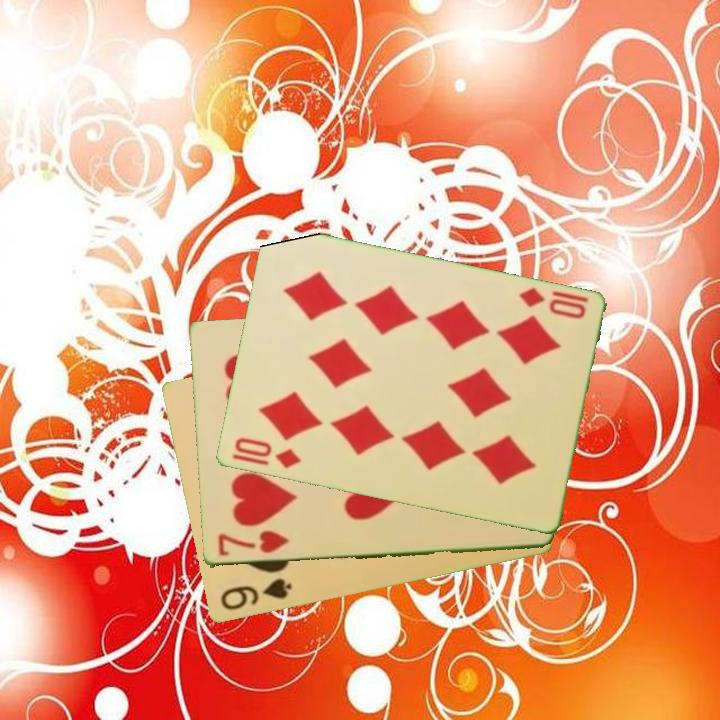10d: (514, 283, 588, 323), (228, 434, 303, 472)
7h: (214, 527, 292, 560)
9s: (217, 575, 295, 614)
